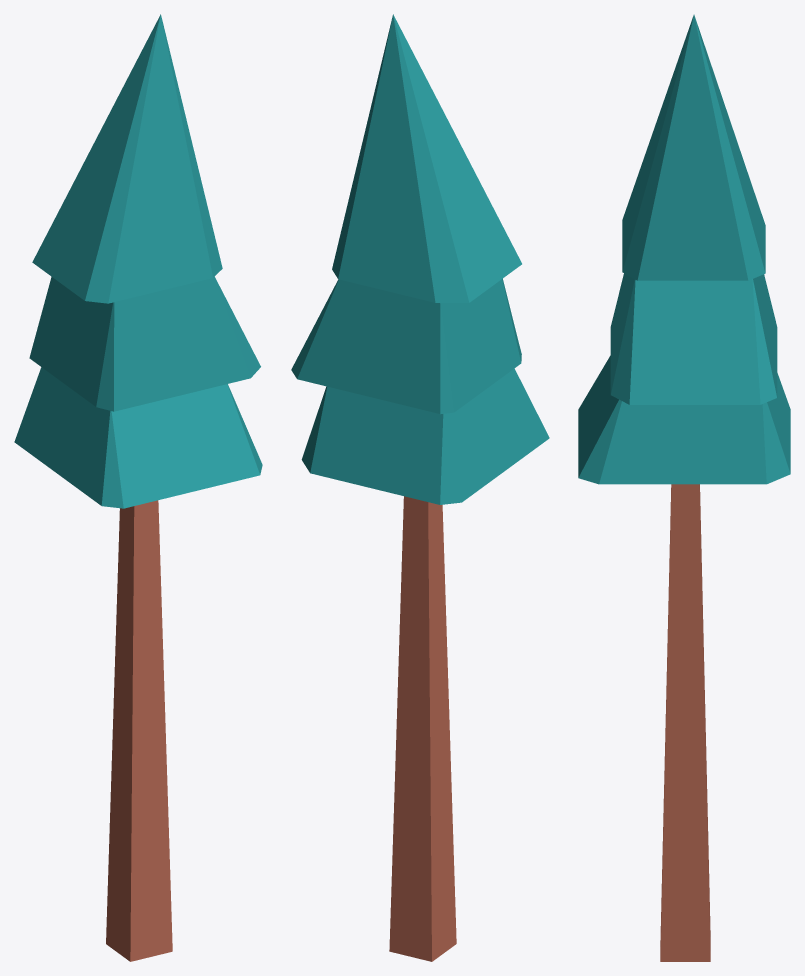
Rendered from tree-pine-tall-b.glb.
3 views of the same model, side by side, from view 1: azimuth 30°, elevation 25°; view 2: azimuth 150°, elevation 25°; view 3: azimuth 270°, elevation 25° (orthographic). The views are drawn at different scales.
Parts seen in each view (by area): view 1: tree_pineTallB; view 2: tree_pineTallB; view 3: tree_pineTallB.
Boxes of the visible parts, x1,y1,x2,y2 form: tree_pineTallB: [14, 14, 262, 961]; tree_pineTallB: [291, 14, 549, 961]; tree_pineTallB: [578, 14, 790, 961].
Size of the model in its own units: 0.3863 by 1.93 by 0.392.
